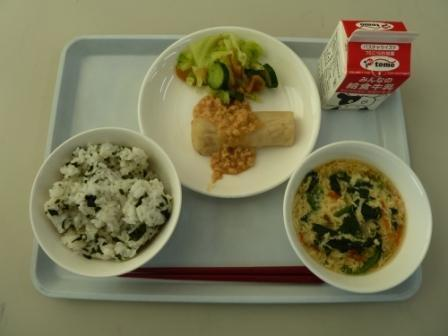Milk: (316, 18, 414, 120)
Rice: (28, 131, 180, 268)
Salad: (165, 30, 283, 95)
Soups: (286, 148, 422, 280)
vegetable based cooked food: (181, 95, 300, 175)
